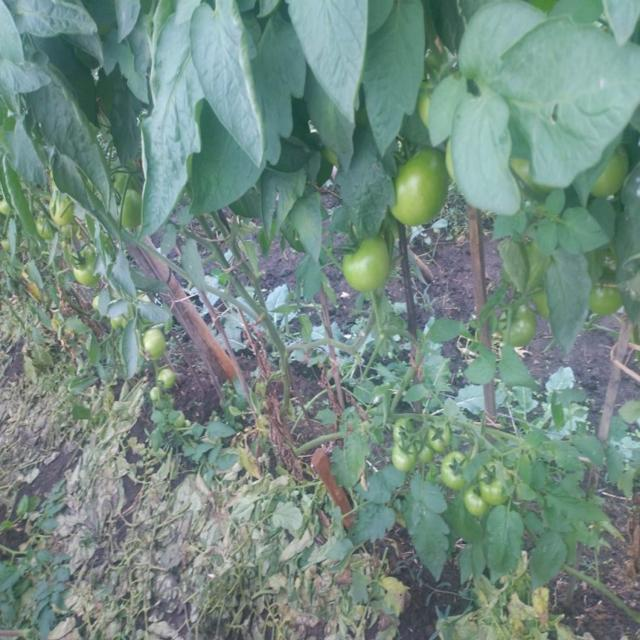tomato: (391, 150, 450, 232), (341, 244, 396, 293), (592, 145, 629, 199), (500, 313, 540, 349), (437, 449, 467, 490), (115, 188, 144, 230), (590, 283, 622, 321), (476, 467, 512, 497), (48, 195, 76, 221), (149, 372, 180, 395), (75, 252, 99, 281), (395, 434, 414, 470), (432, 417, 455, 446), (139, 332, 168, 352), (397, 421, 419, 444), (38, 218, 58, 239), (415, 438, 432, 462), (469, 491, 485, 512)
